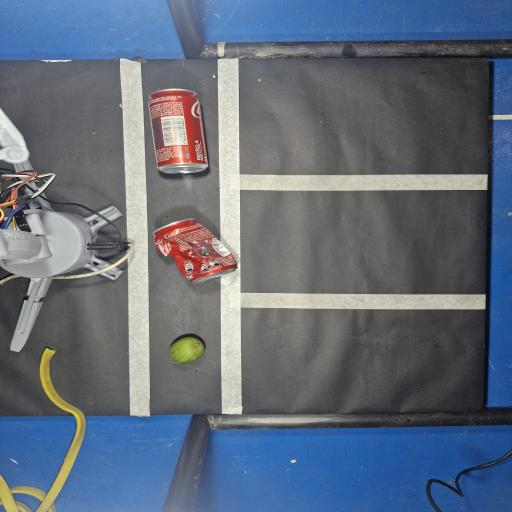higo: (169, 337, 204, 363)
lata: (148, 89, 208, 173)
lata_defectuoso: (154, 219, 237, 281)
